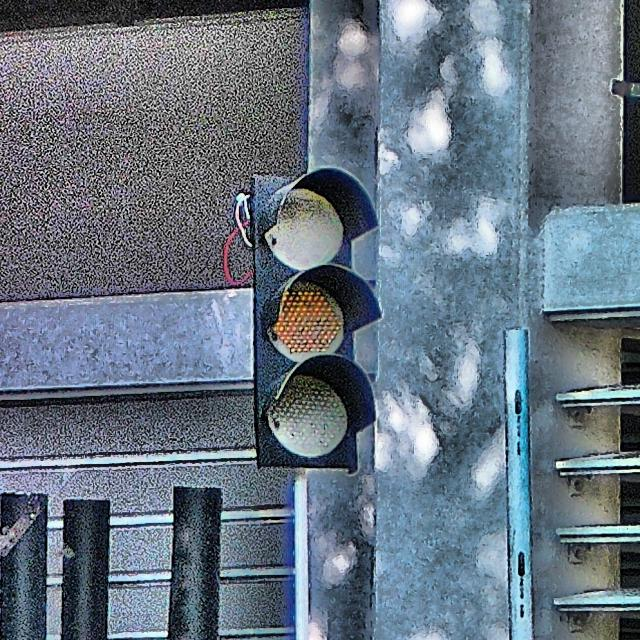yellow: (251, 176, 372, 467)
